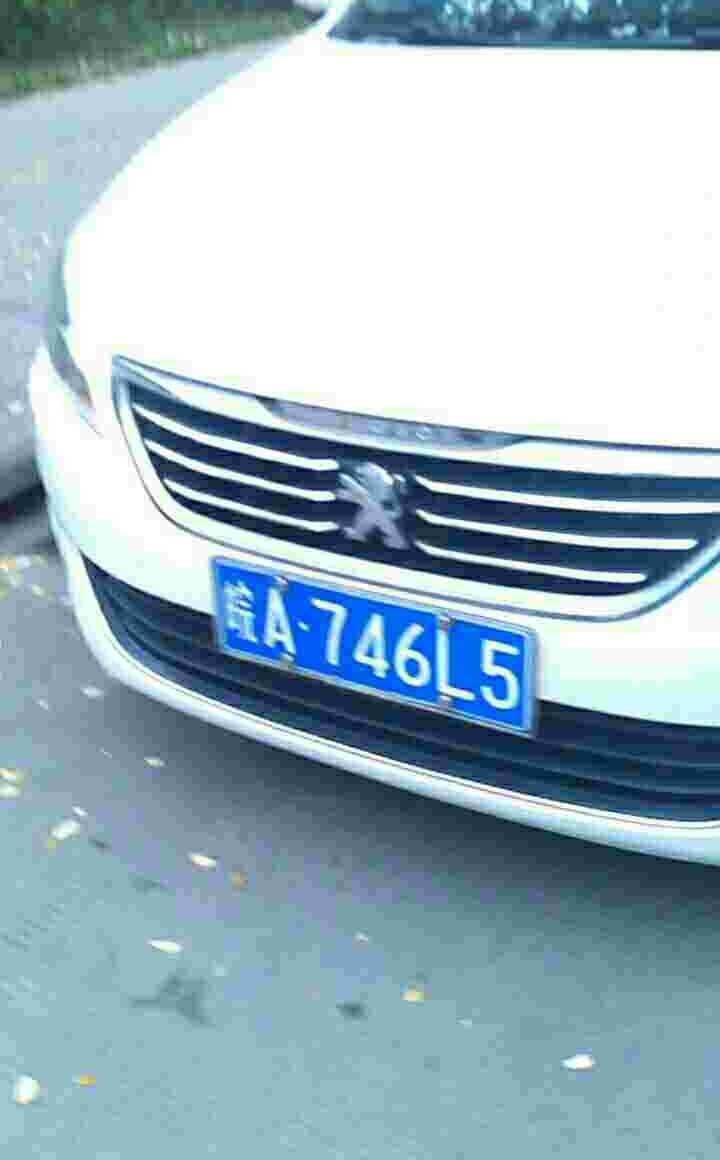license_plate: (205, 556, 546, 731)
